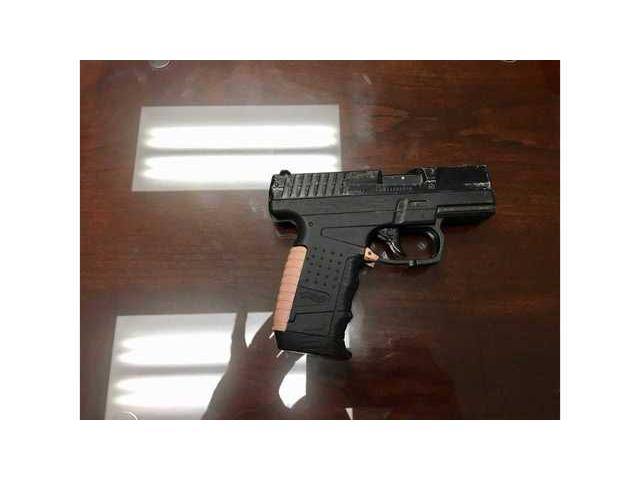pistol: (265, 164, 499, 357)
